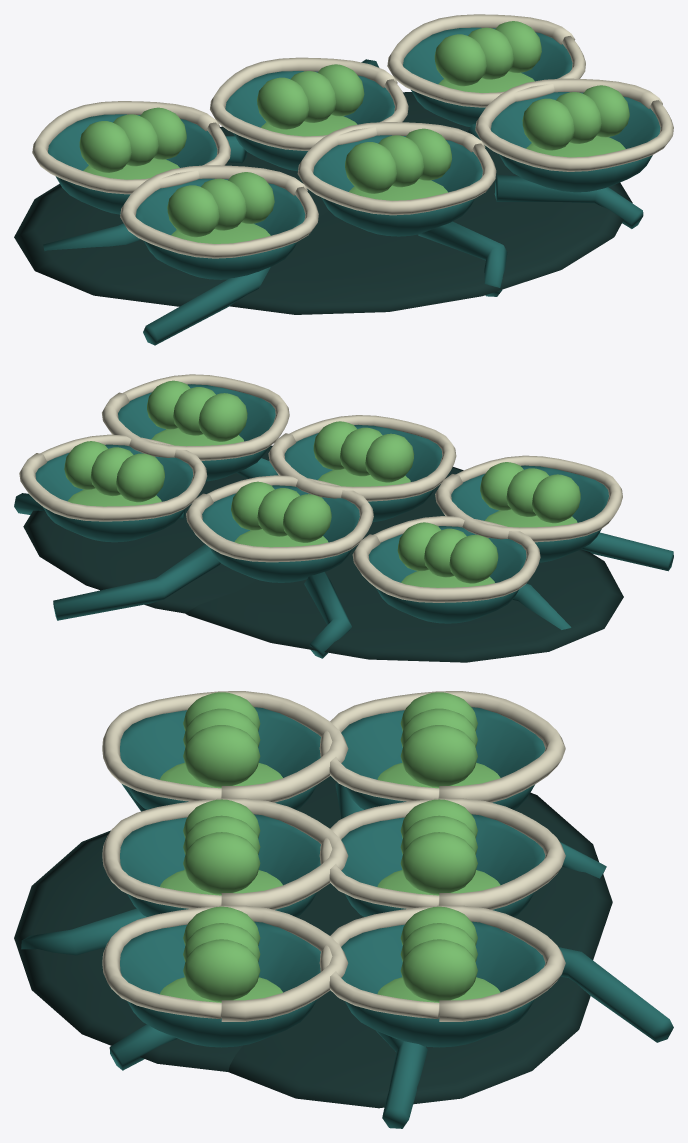
Rendered from building_culture_bed_a.obj.
3 renders of one model, top to bottom at view 1: azimuth 30°, elevation 25°; view 2: azimuth 150°, elevation 25°; view 3: azimuth 270°, elevation 25°, orthographic. The views are drawn at different scales.
Visible parts, largest first — view 1: irregular_anchoring_lobe.056, irregular_anchoring_lobe.054, grown_cup_lip.053, grown_cup_lip.054, grown_cup_lip.055, open_living_cup.053, open_living_cup.054, open_living_cup.055, grown_cup_lip.056, grown_cup_lip.058, grown_cup_lip.057, open_living_cup.056 (+31 smaller); view 2: irregular_anchoring_lobe.054, irregular_anchoring_lobe.055, grown_cup_lip.054, grown_cup_lip.053, grown_cup_lip.055, grown_cup_lip.056, grown_cup_lip.058, grown_cup_lip.057, open_living_cup.058, open_living_cup.056, open_living_cup.057, anchoring_root.127 (+33 smaller); view 3: irregular_anchoring_lobe.055, irregular_anchoring_lobe.056, open_living_cup.055, open_living_cup.058, irregular_anchoring_lobe.054, grown_cup_lip.055, grown_cup_lip.058, grown_cup_lip.053, grown_cup_lip.054, grown_cup_lip.056, grown_cup_lip.057, open_living_cup.054 (+32 smaller).
Part boxes in pixels (x1=…): irregular_anchoring_lobe.056: x1=229, y1=179, x2=632, y2=314; irregular_anchoring_lobe.054: x1=14, y1=126, x2=328, y2=306; grown_cup_lip.053: x1=120, y1=165, x2=318, y2=258; grown_cup_lip.054: x1=297, y1=122, x2=496, y2=215; grown_cup_lip.055: x1=475, y1=78, x2=673, y2=171; open_living_cup.053: x1=135, y1=178, x2=305, y2=279; open_living_cup.054: x1=313, y1=135, x2=482, y2=236; open_living_cup.055: x1=491, y1=92, x2=660, y2=192; grown_cup_lip.056: x1=32, y1=101, x2=230, y2=194; grown_cup_lip.058: x1=387, y1=14, x2=585, y2=107; grown_cup_lip.057: x1=210, y1=57, x2=408, y2=150; open_living_cup.056: x1=48, y1=114, x2=217, y2=214; irregular_anchoring_lobe.054: x1=185, y1=535, x2=623, y2=662; irregular_anchoring_lobe.055: x1=23, y1=485, x2=256, y2=613; grown_cup_lip.054: x1=268, y1=415, x2=456, y2=501; grown_cup_lip.053: x1=435, y1=455, x2=622, y2=542; grown_cup_lip.055: x1=102, y1=374, x2=289, y2=460; grown_cup_lip.056: x1=352, y1=516, x2=540, y2=602; grown_cup_lip.058: x1=19, y1=434, x2=207, y2=521; grown_cup_lip.057: x1=186, y1=475, x2=373, y2=562; open_living_cup.058: x1=35, y1=444, x2=193, y2=542; open_living_cup.056: x1=368, y1=526, x2=526, y2=623; open_living_cup.057: x1=202, y1=485, x2=359, y2=582; anchoring_root.127: x1=53, y1=544, x2=220, y2=620; irregular_anchoring_lobe.055: x1=228, y1=932, x2=590, y2=1108; irregular_anchoring_lobe.056: x1=14, y1=830, x2=317, y2=1071; open_living_cup.055: x1=120, y1=921, x2=320, y2=1047; open_living_cup.058: x1=341, y1=921, x2=545, y2=1047; irregular_anchoring_lobe.054: x1=297, y1=776, x2=612, y2=959; grown_cup_lip.055: x1=102, y1=905, x2=348, y2=1021; grown_cup_lip.058: x1=319, y1=905, x2=565, y2=1021; grown_cup_lip.053: x1=102, y1=691, x2=348, y2=802; grown_cup_lip.054: x1=102, y1=798, x2=348, y2=909; grown_cup_lip.056: x1=319, y1=691, x2=565, y2=802; grown_cup_lip.057: x1=319, y1=798, x2=565, y2=909; open_living_cup.054: x1=120, y1=814, x2=320, y2=916.
Bounding box in the file's own units: 3.59 × 0.63 × 2.73.
